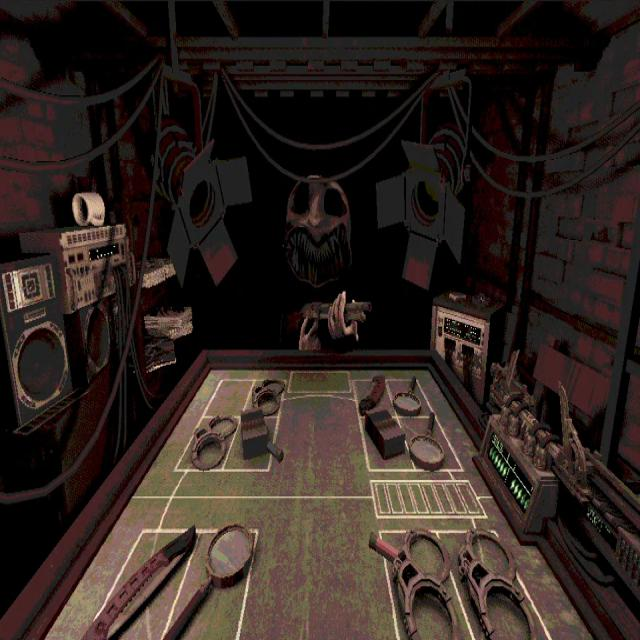ally: (41, 491, 590, 639)
cigar: (365, 408, 405, 459), (241, 411, 273, 458)
doubledamage: (84, 527, 198, 639), (359, 371, 386, 415)
enemyspace: (128, 364, 494, 491)
gun: (188, 416, 237, 471)
handcuff: (456, 528, 534, 639), (389, 529, 459, 639), (251, 374, 287, 414)
lens: (161, 524, 257, 639), (409, 412, 443, 472), (393, 375, 422, 415)
